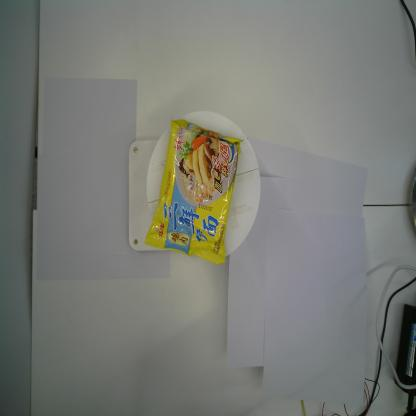Instant Noodles: (144, 117, 244, 265)
